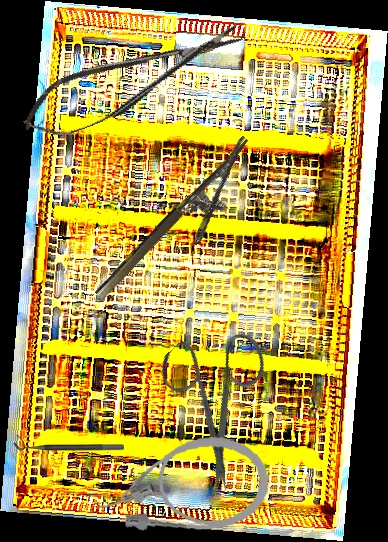Cannula: (90, 431, 274, 540)
Fixation Ring: (13, 435, 124, 451)
Iris Scissors: (123, 303, 318, 498)
Micro Scissor: (13, 12, 253, 149)
Needle Holder: (93, 135, 274, 321)
